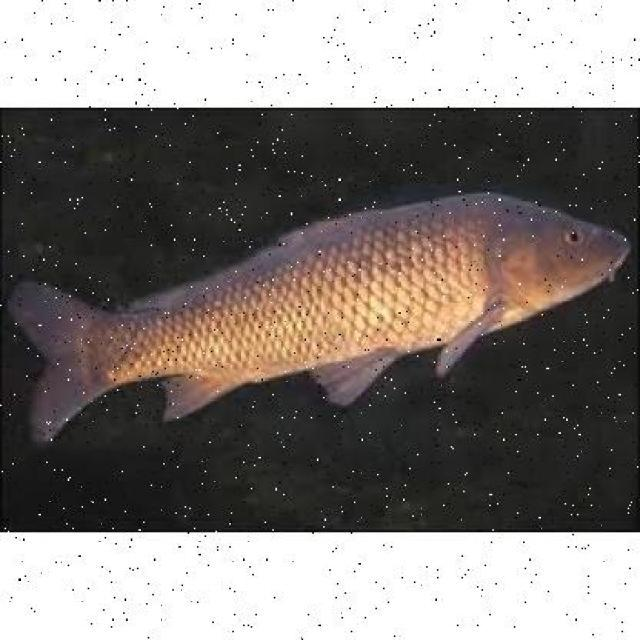ikan-mas: (9, 190, 631, 447)
